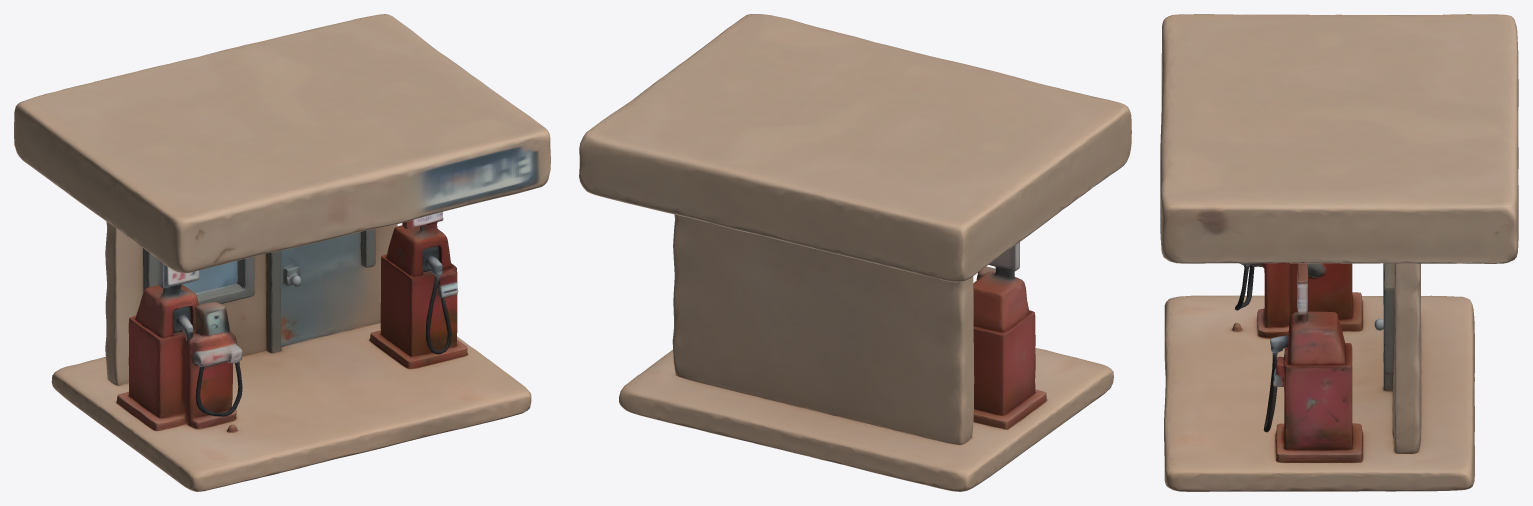
Rendered from gas_station.glb.
3 views of the same model, side by side, from view 1: azimuth 30°, elevation 25°; view 2: azimuth 150°, elevation 25°; view 3: azimuth 270°, elevation 25° (orthographic). The views are drawn at different scales.
Parts seen in each view (by area): view 1: Mesh; view 2: Mesh; view 3: Mesh.
Part boxes in pixels (x1,y1,x2,y2): Mesh: [14, 14, 550, 491]; Mesh: [579, 14, 1131, 491]; Mesh: [1160, 14, 1518, 491].
Size of the model in its own units: 1.88 by 1.35 by 1.46.
Materials: 1 (1 with a texture image).
